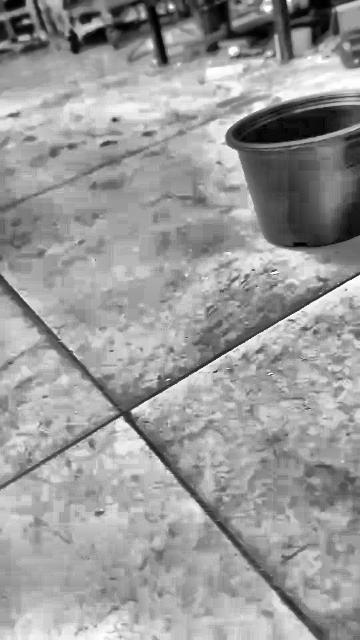pot: (227, 90, 360, 247)
